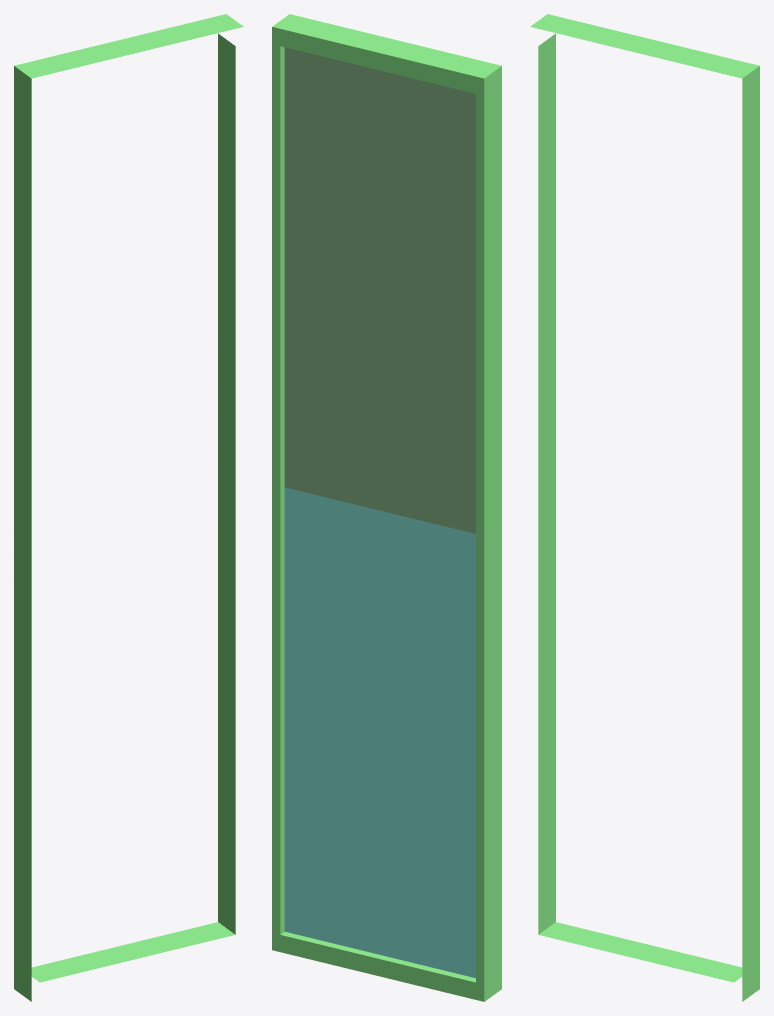
File: wall_deco_11.gltf
3 views of the same model, side by side, from view 1: azimuth 30°, elevation 25°; view 2: azimuth 150°, elevation 25°; view 3: azimuth 330°, elevation 25° (orthographic).
Parts seen in each view (by area): view 1: wall_deco_11; view 2: wall_deco_11; view 3: wall_deco_11.
Boxes of the visible parts, x1=… form: wall_deco_11: x1=14, y1=14, x2=243, y2=1001; wall_deco_11: x1=272, y1=14, x2=501, y2=1001; wall_deco_11: x1=530, y1=14, x2=759, y2=1001.
Bounding box in the file's own units: 1.28 × 5.32 × 0.183.
